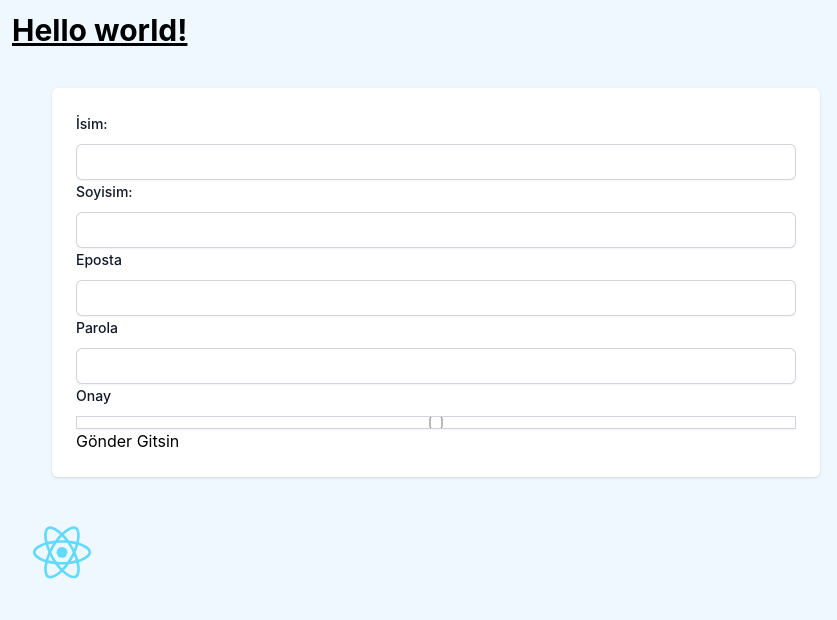
Test: my first E2E test › isim bosken hata gorunmeli
This screenshot has width=837, height=620.
Type "coskun" into the field labelled "İsim:" at (436, 162), box [76,144,796,180]
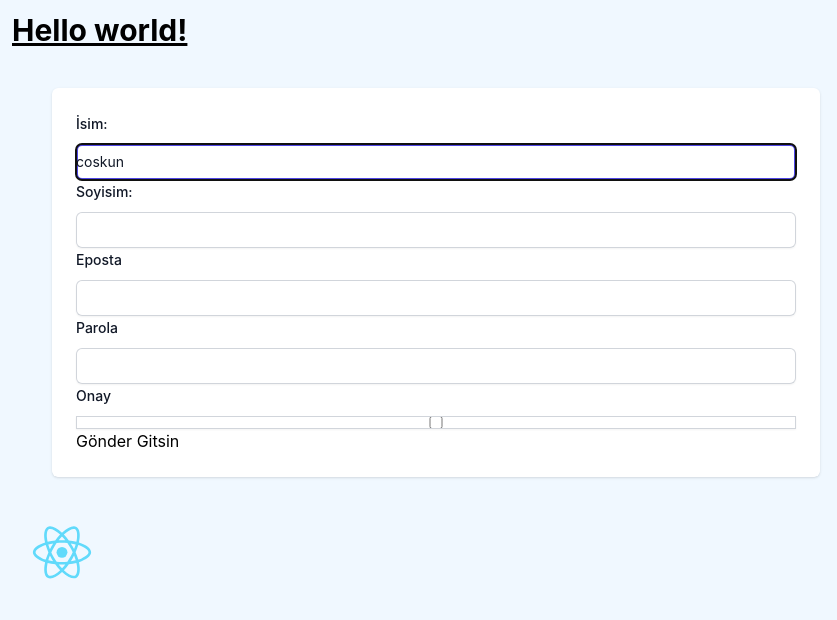
Clear the field labelled "İsim:" at (436, 162), box [76,144,796,180]
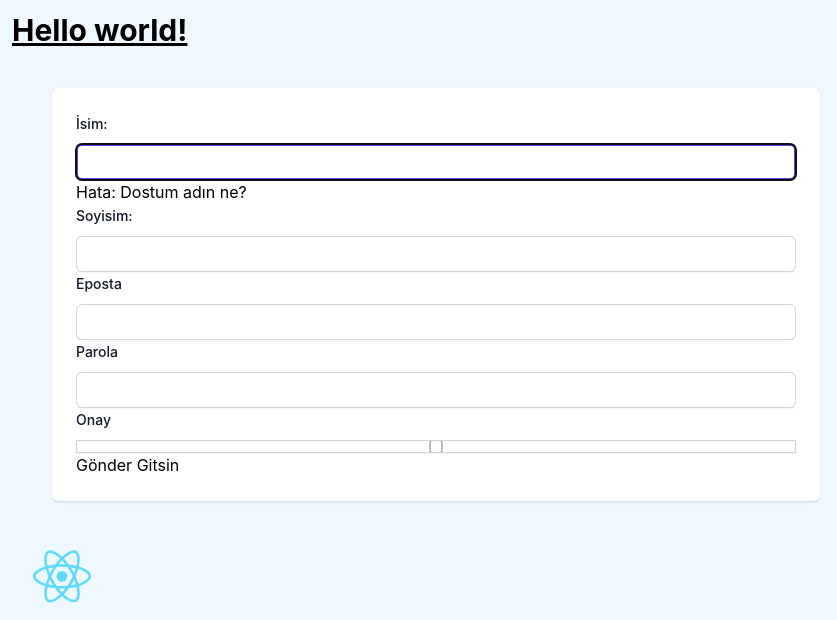
Now the number of elements with class "error" is 1, box [76,182,247,202]
